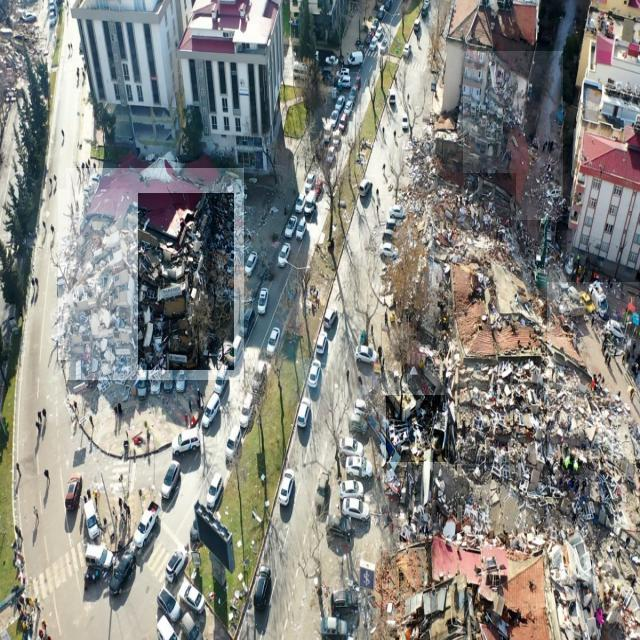Rubble: (66, 168, 245, 380), (392, 464, 542, 640), (138, 193, 234, 370), (463, 51, 563, 220), (440, 290, 536, 465), (547, 282, 640, 459), (552, 475, 640, 640), (58, 189, 132, 360), (407, 173, 516, 280), (386, 395, 445, 462)
